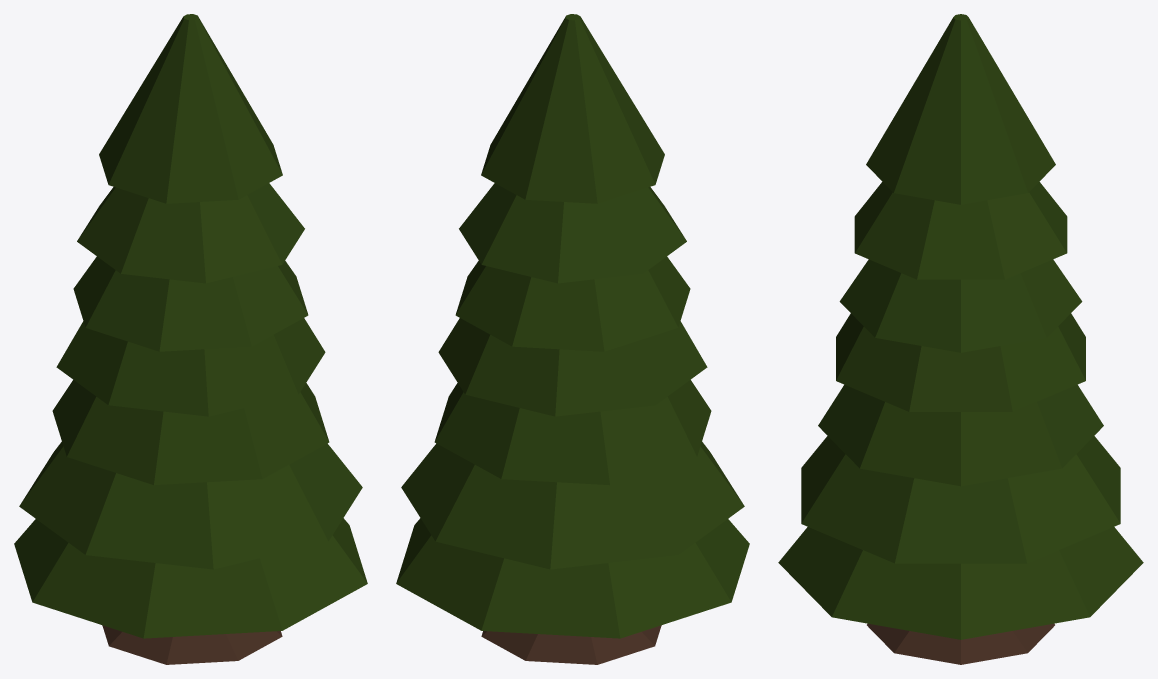
The model's file is PineTree004.fbx.
3 views of the same model, side by side, from view 1: azimuth 30°, elevation 25°; view 2: azimuth 150°, elevation 25°; view 3: azimuth 270°, elevation 25° (orthographic).
Parts seen in each view (by area): view 1: Cylinder.001; view 2: Cylinder.001; view 3: Cylinder.001.
Boxes of the visible parts, x1,y1,x2,y2 form: Cylinder.001: [14, 14, 367, 664]; Cylinder.001: [396, 14, 749, 664]; Cylinder.001: [778, 14, 1143, 664].
Size of the model in its own units: 828 by 1519 by 828.
